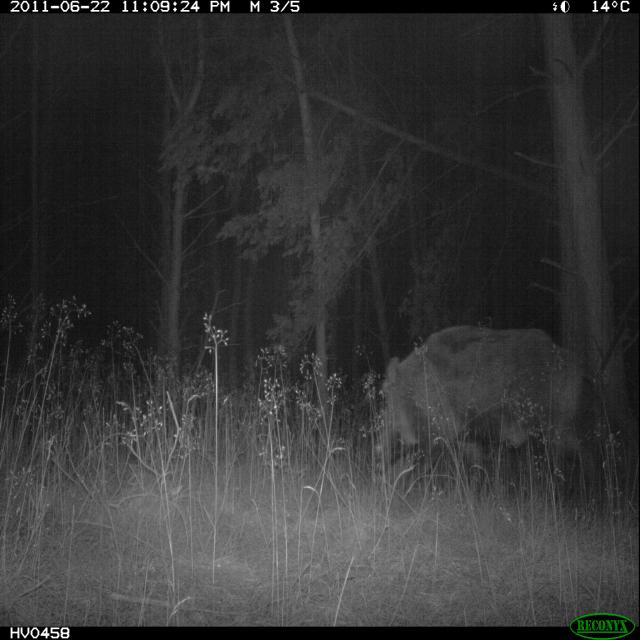boar: (342, 307, 594, 492)
